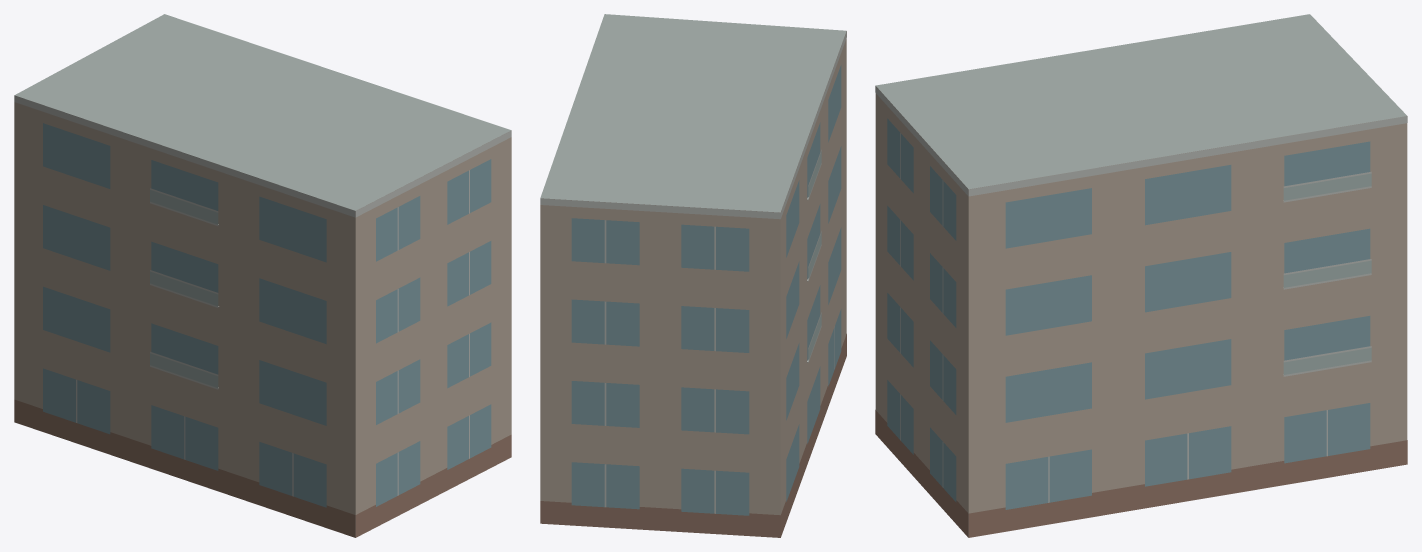
File: survey-upis-32894569.glb
3 views of the same model, side by side, from view 1: azimuth 30°, elevation 25°; view 2: azimuth 150°, elevation 25°; view 3: azimuth 270°, elevation 25° (orthographic). The views are drawn at different scales.
Parts seen in each view (by area): view 1: survey-upis-32894569.tmp; view 2: survey-upis-32894569.tmp; view 3: survey-upis-32894569.tmp.
Part boxes in pixels (x1,y1,x2,y2): survey-upis-32894569.tmp: (14, 14, 511, 537); survey-upis-32894569.tmp: (540, 14, 846, 537); survey-upis-32894569.tmp: (875, 14, 1407, 537).
Size of the model in its own units: 12.74 by 11.8 by 16.33.
